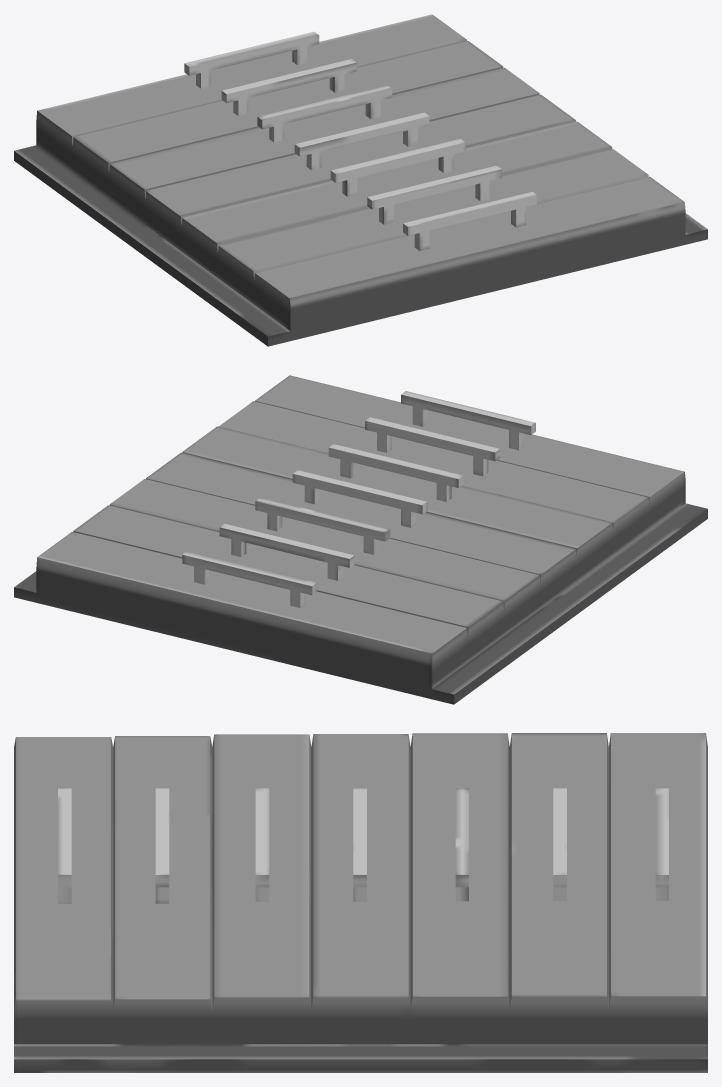
File: Drawers_A.fbx
3 views of the same model, one above another, from view 1: azimuth 30°, elevation 25°; view 2: azimuth 150°, elevation 25°; view 3: azimuth 270°, elevation 25° (orthographic). The views are drawn at different scales.
Parts seen in each view (by area): view 1: Drawers_A; view 2: Drawers_A; view 3: Drawers_A.
Boxes of the visible parts, <box> form: Drawers_A: <box>14,14,707,346</box>; Drawers_A: <box>14,375,707,704</box>; Drawers_A: <box>14,733,707,1072</box>.
Size of the model in its own units: 200 by 30.33 by 200.
